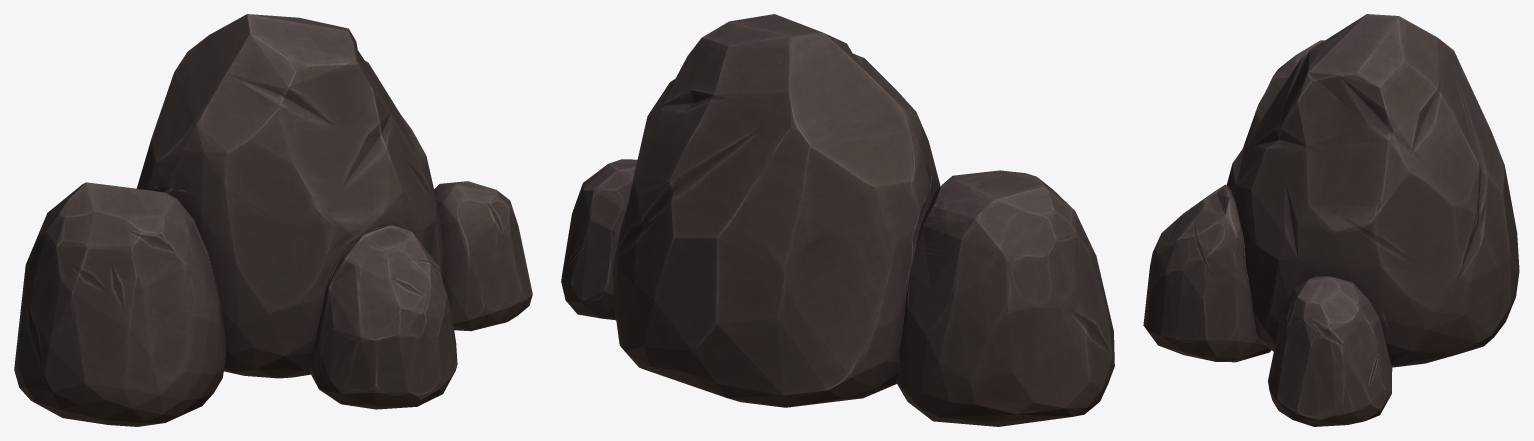
File: double-rock.glb
The picture shows the model from 3 angles, left to right: view 1: azimuth 30°, elevation 25°; view 2: azimuth 150°, elevation 25°; view 3: azimuth 270°, elevation 25°; orthographic projection. The views are drawn at different scales.
Parts seen in each view (by area): view 1: Group21933; view 2: Group21933; view 3: Group21933.
Part boxes in pixels (x1=…): Group21933: x1=14, y1=14, x2=532, y2=426; Group21933: x1=561, y1=14, x2=1114, y2=426; Group21933: x1=1143, y1=14, x2=1519, y2=426.
Size of the model in its own units: 2 by 1.26 by 1.37.
Materials: 1 (1 with a texture image).
